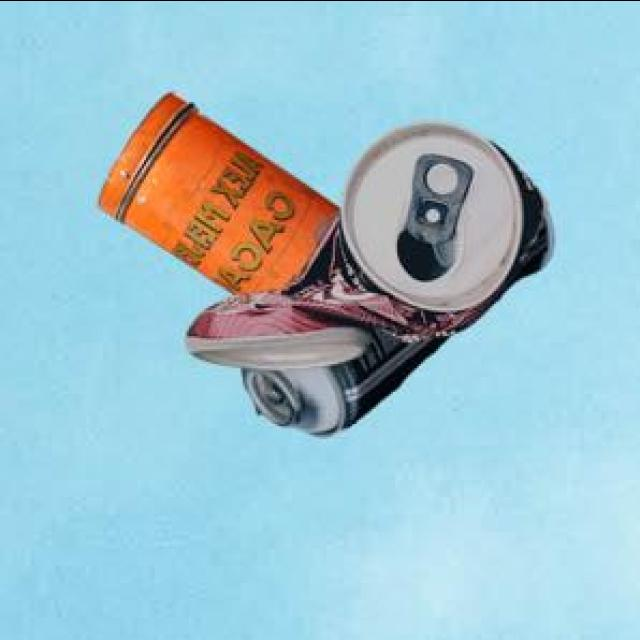logam: (184, 117, 544, 366), (239, 216, 551, 433), (96, 89, 336, 291)
